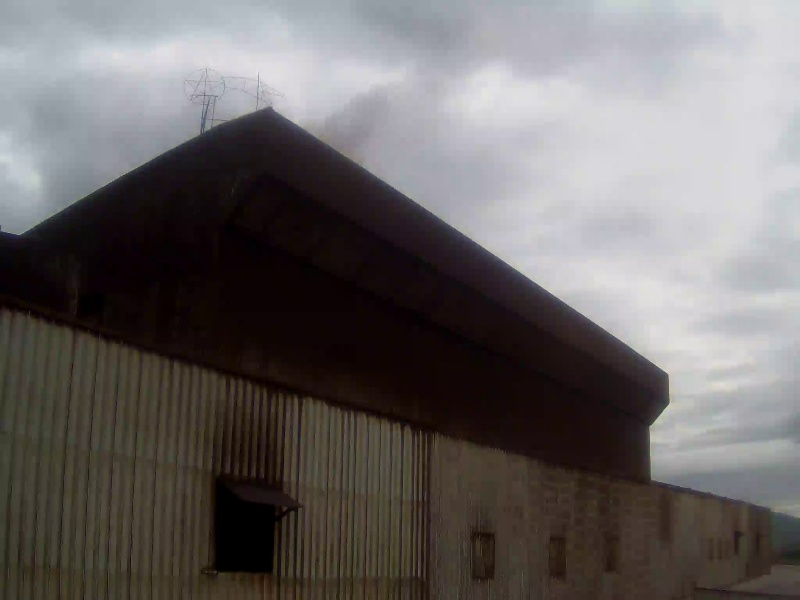bom: (232, 57, 676, 420), (8, 27, 269, 174), (571, 318, 770, 464)
